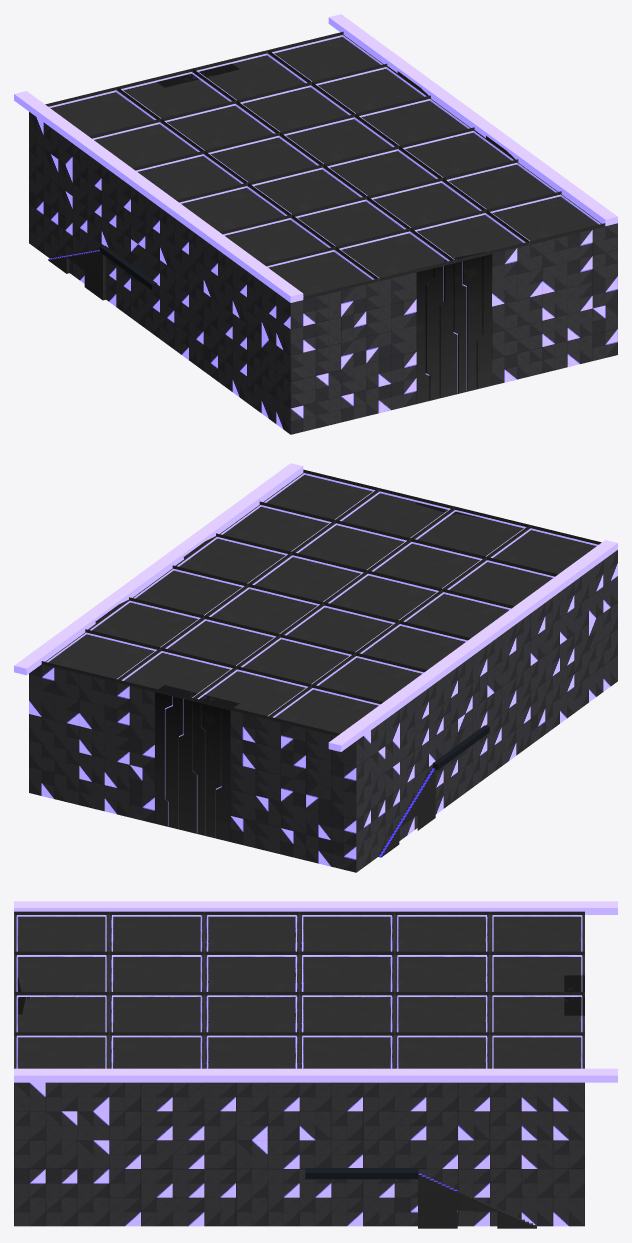
The model's file is sorrow.fbx.
3 renders of one model, top to bottom at view 1: azimuth 30°, elevation 25°; view 2: azimuth 150°, elevation 25°; view 3: azimuth 270°, elevation 25°, orthographic. The views are drawn at different scales.
Visible parts, largest first — view 1: landmarkceilling, landmarkfrontwall, landmarkleftwall, landmarkareaboxright, landmarkdoorleft, landmarkareaboxleft, landmarkdoorright, rightstair, stairbar; view 2: landmarkceilling, landmarkbackwall, landmarkleftwall, landmarkdoorleft__1_, landmarkareaboxright, landmarkareaboxleft, landmarkdoorright__1_, rightstair, stairbar; view 3: landmarkceilling, landmarkrightwall, landmarkareaboxleft, landmarkareaboxright, leftstair, stairbar.
Part boxes in pixels (<box>): landmarkceilling: <box>45,31,605,299</box>; landmarkfrontwall: <box>290,223,617,434</box>; landmarkleftwall: <box>29,112,290,434</box>; landmarkareaboxright: <box>14,91,303,302</box>; landmarkdoorleft: <box>416,256,457,403</box>; landmarkareaboxleft: <box>328,14,617,226</box>; landmarkdoorright: <box>442,252,491,393</box>; rightstair: <box>48,250,105,300</box>; stairbar: <box>100,245,157,290</box>; landmarkceilling: <box>41,469,601,736</box>; landmarkbackwall: <box>29,664,356,872</box>; landmarkleftwall: <box>356,550,617,872</box>; landmarkdoorleft__1_: <box>155,685,205,833</box>; landmarkareaboxright: <box>328,540,617,751</box>; landmarkareaboxleft: <box>14,463,303,675</box>; landmarkdoorright__1_: <box>190,694,239,841</box>; rightstair: <box>378,768,435,857</box>; stairbar: <box>432,725,489,770</box>; landmarkceilling: <box>14,911,584,1068</box>; landmarkrightwall: <box>14,1082,584,1226</box>; landmarkareaboxleft: <box>14,1068,617,1082</box>; landmarkareaboxright: <box>14,901,617,914</box>; leftstair: <box>418,1173,536,1228</box>; stairbar: <box>305,1168,418,1179</box>.
Size of the model in its own units: 2138 by 834 by 2998.
